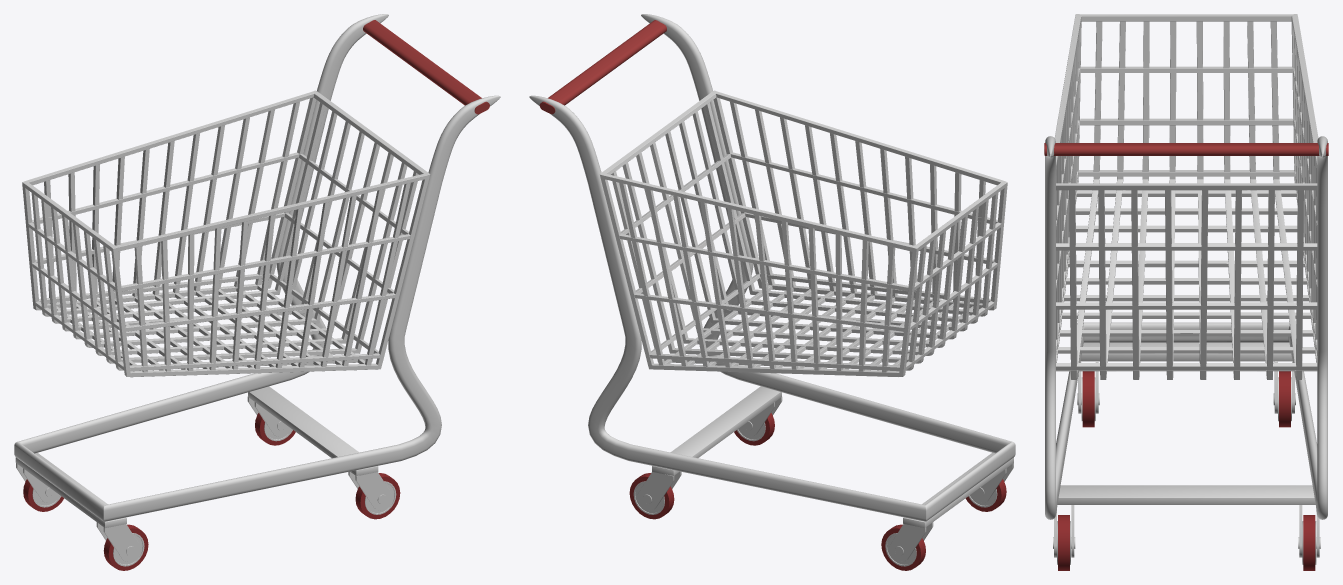
Rendered from shopping_cart.fbx.
The picture shows the model from 3 angles, left to right: view 1: azimuth 30°, elevation 25°; view 2: azimuth 150°, elevation 25°; view 3: azimuth 270°, elevation 25°; orthographic projection. The views are drawn at different scales.
Parts seen in each view (by area): view 1: shopping_cart; view 2: shopping_cart; view 3: shopping_cart.
Boxes of the visible parts, <box> form: shopping_cart: <box>14,14,500,570</box>; shopping_cart: <box>529,14,1015,570</box>; shopping_cart: <box>1044,14,1328,570</box>.
Size of the model in its own units: 99.79 by 98.47 by 52.3.
